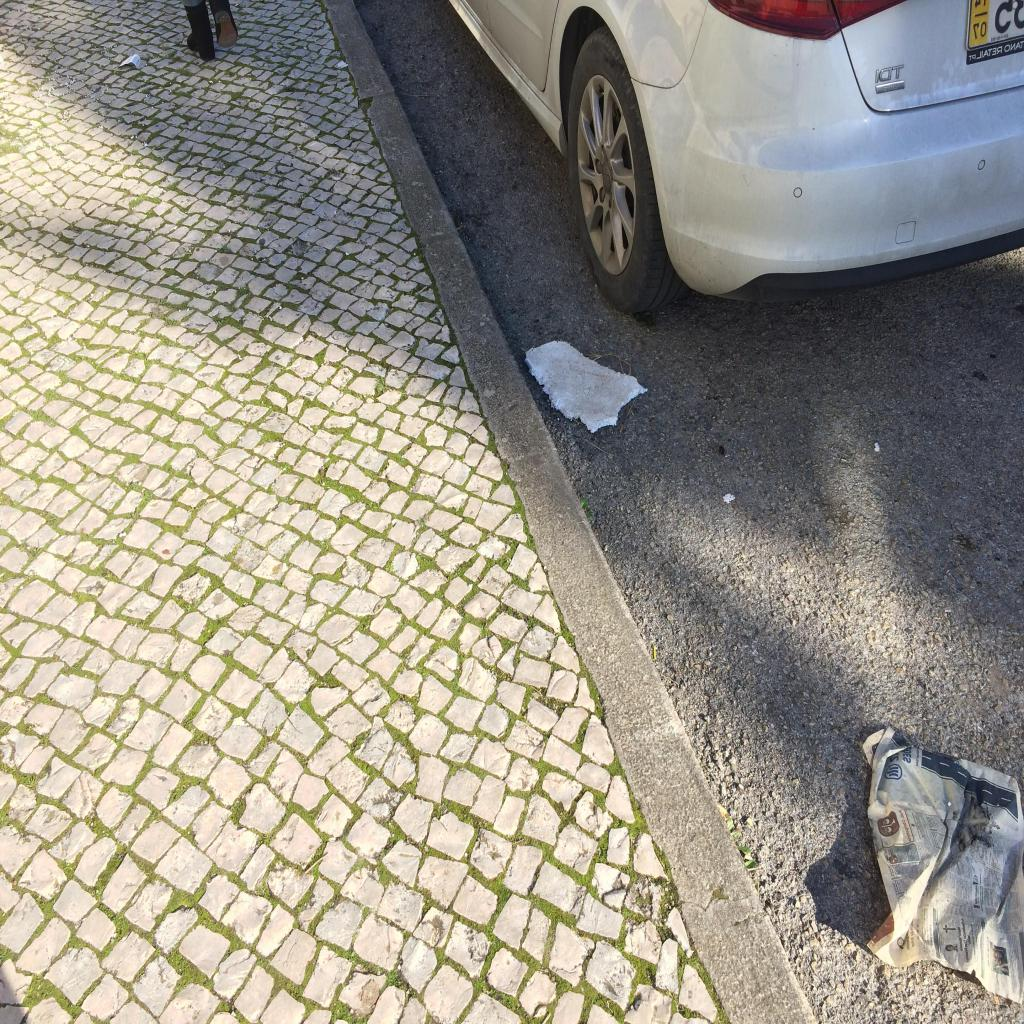Normal paper: (862, 726, 1023, 1005)
Styrofoam piece: (524, 341, 648, 433), (724, 494, 736, 502)
Unlabeled litter: (118, 54, 142, 68)
